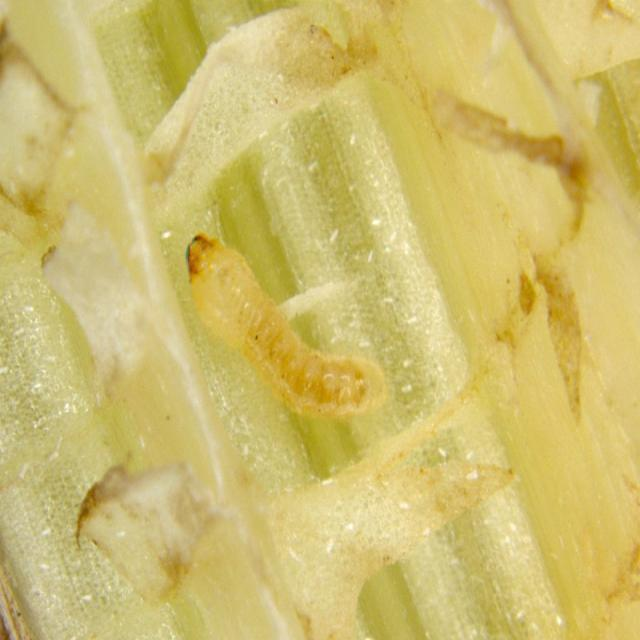cornborer-Larva-: (168, 223, 406, 440)
